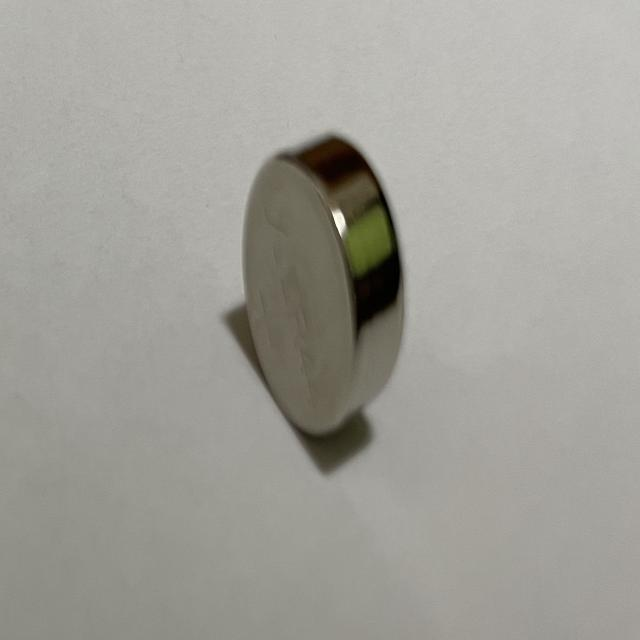COIN: (241, 128, 405, 438)
